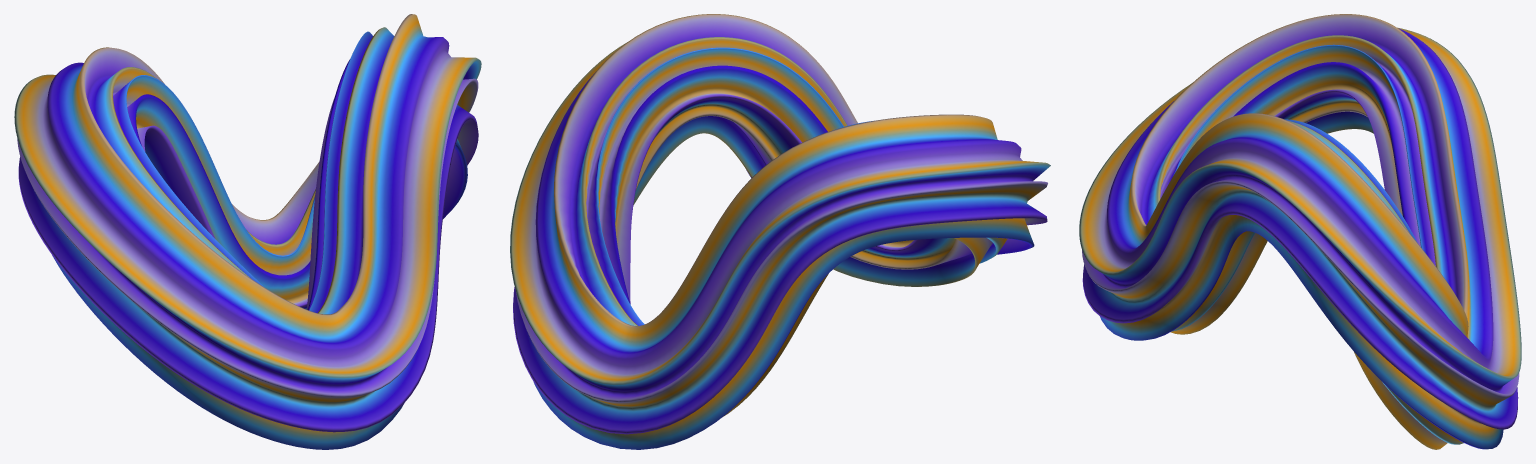
3 renders of one model, left to right at view 1: azimuth 30°, elevation 25°; view 2: azimuth 150°, elevation 25°; view 3: azimuth 270°, elevation 25°, orthographic. The views are drawn at different scales.
Visible parts, largest first — view 1: AbstractShape03; view 2: AbstractShape03; view 3: AbstractShape03.
Boxes of the visible parts, x1,y1,x2,y2 form: AbstractShape03: [14, 14, 481, 449]; AbstractShape03: [510, 14, 1050, 449]; AbstractShape03: [1079, 14, 1521, 449].
Size of the model in its own units: 10.09 by 7.7 by 9.32.
Materials: 1 (1 with a texture image).
